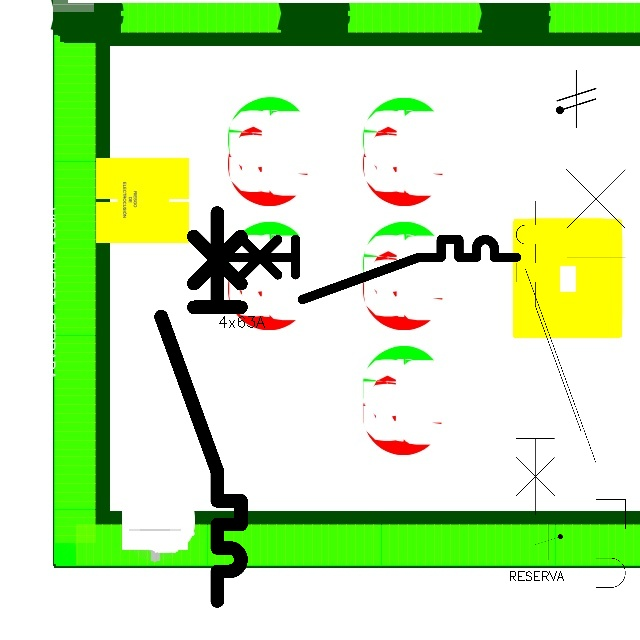interruptor_termomagnetico: (513, 127, 638, 636), (151, 203, 251, 611), (508, 193, 588, 523), (217, 232, 524, 307)
